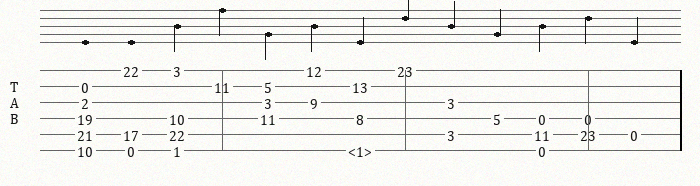0: (81, 79, 93, 93), (127, 143, 139, 157), (538, 143, 550, 157), (538, 111, 550, 125), (584, 111, 596, 125), (630, 127, 642, 141)
1: (173, 143, 185, 157)
10: (77, 143, 97, 157), (169, 111, 189, 125)
11: (214, 79, 234, 93), (260, 111, 280, 125), (534, 127, 554, 141)
12: (306, 63, 326, 77)
13: (352, 79, 372, 93)
17: (123, 127, 143, 141)
19: (77, 111, 97, 125)
2: (81, 95, 93, 109)
21: (77, 127, 97, 141)
22: (123, 63, 143, 77), (169, 127, 189, 141)
23: (397, 63, 417, 77), (580, 127, 600, 141)
3: (173, 63, 185, 77), (264, 95, 276, 109), (447, 127, 459, 141), (447, 95, 459, 109)
5: (264, 79, 276, 94), (493, 111, 505, 126)
8: (356, 111, 368, 125)
9: (310, 95, 322, 109)
harmonic: (348, 143, 376, 157)
